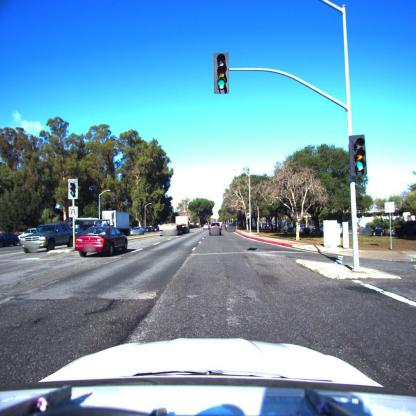car: (76, 225, 130, 257), (21, 223, 72, 254), (1, 232, 21, 247), (210, 222, 222, 235), (131, 224, 144, 236), (224, 223, 236, 232), (144, 226, 154, 235), (203, 223, 210, 231)
truck: (101, 209, 130, 237), (160, 216, 190, 235)
